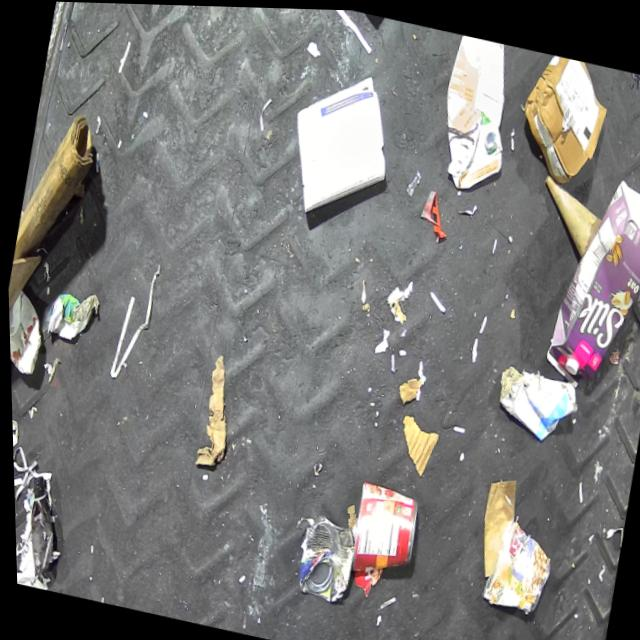can: (341, 476, 423, 581), (474, 512, 557, 615), (287, 508, 359, 607), (7, 286, 49, 381)
non_white_jug: (535, 163, 640, 400), (428, 30, 526, 194)
